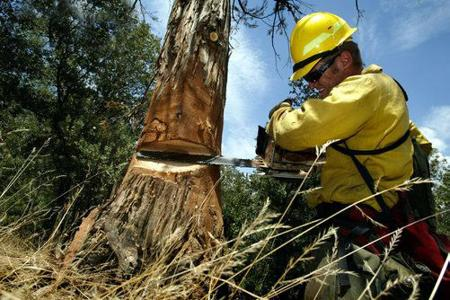person: (265, 13, 448, 300)
